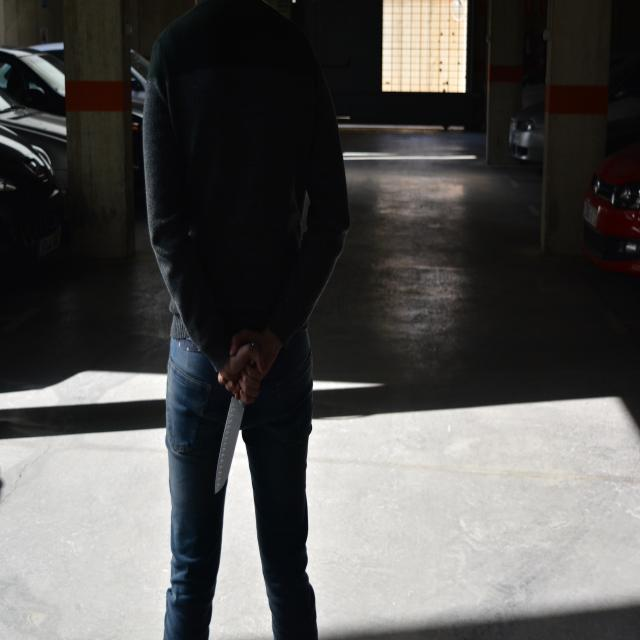knife: (212, 392, 244, 505)
